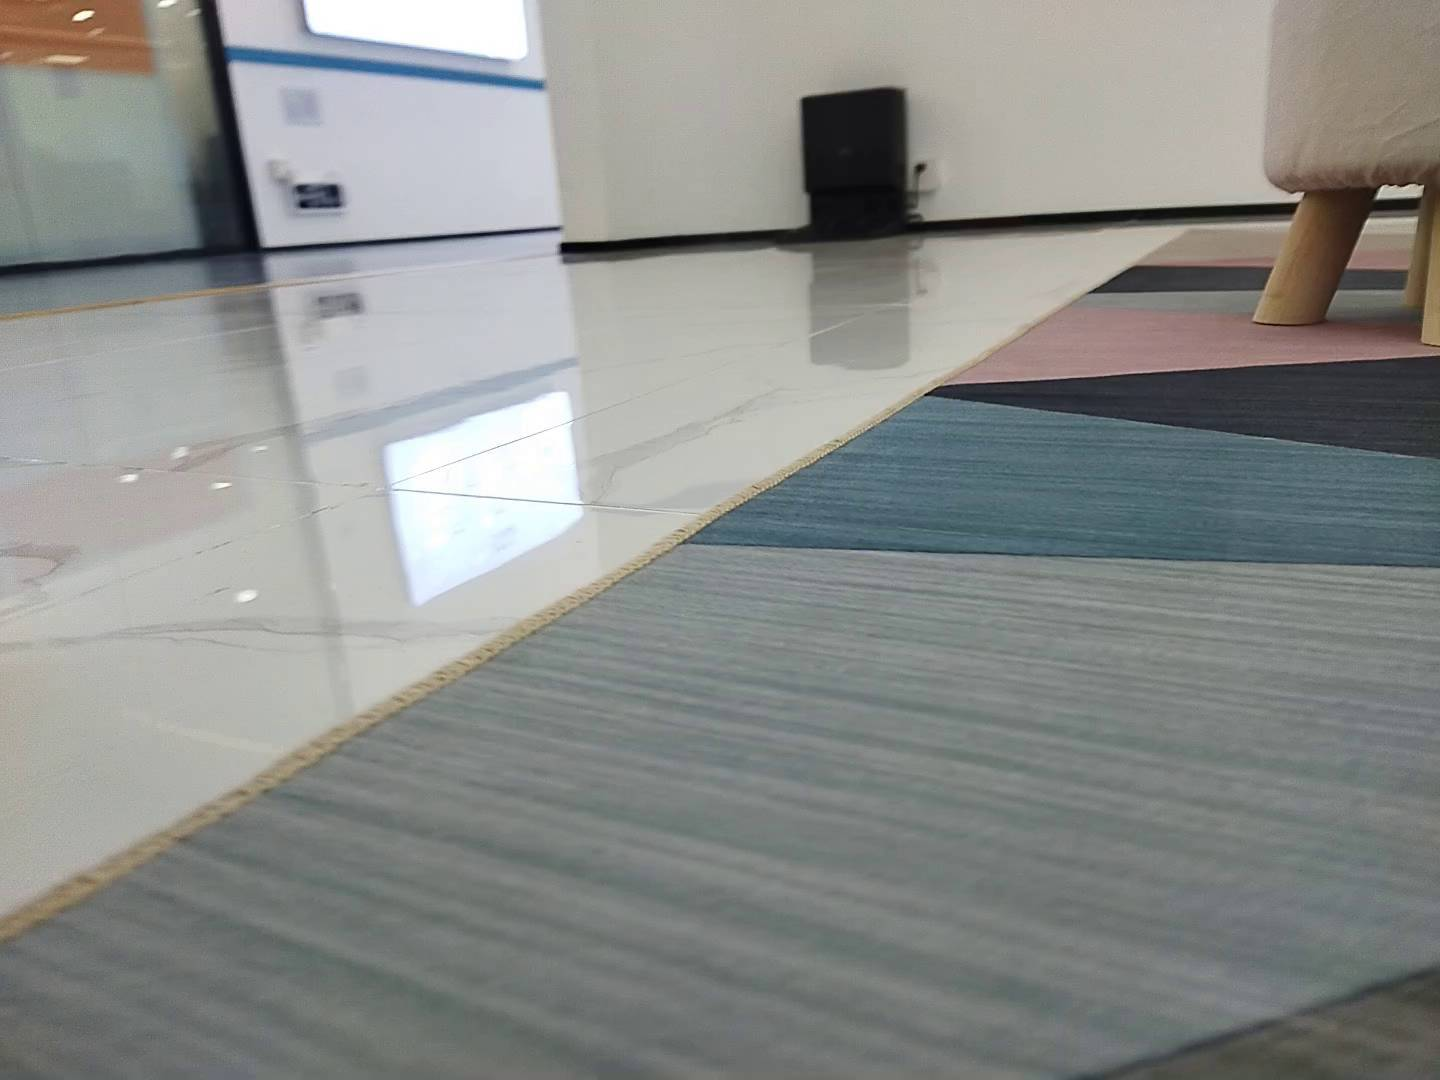dust collecting barrel: (769, 86, 922, 243)
